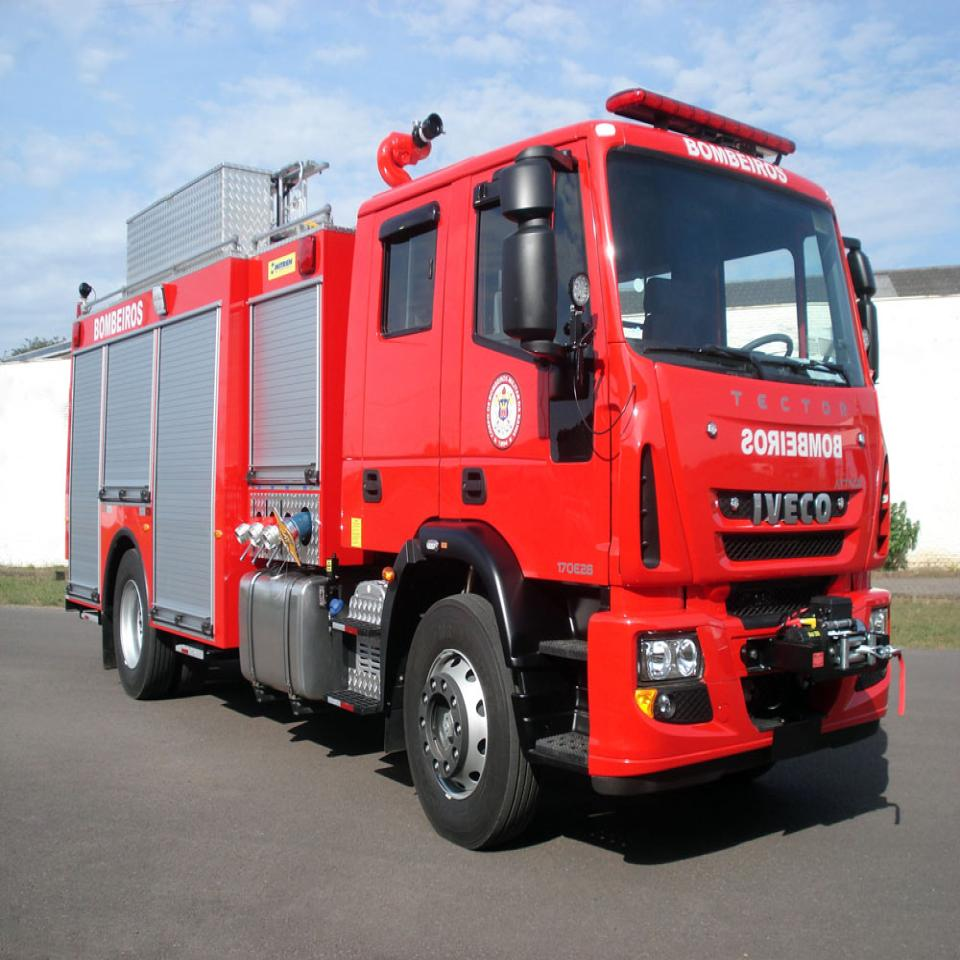viatura: (56, 83, 914, 856)
